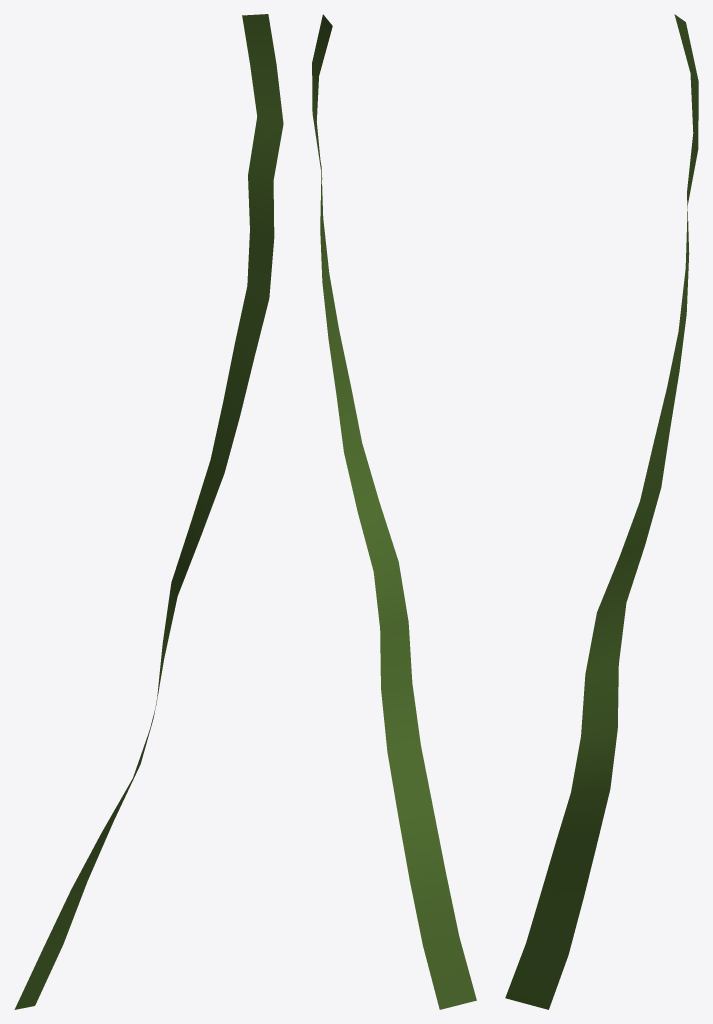
Rendered from plant_swamp_kelp_long_solo_Z.fbx.
3 views of the same model, side by side, from view 1: azimuth 30°, elevation 25°; view 2: azimuth 150°, elevation 25°; view 3: azimuth 330°, elevation 25° (orthographic). The views are drawn at different scales.
Parts seen in each view (by area): view 1: plant_swamp_kelp_long_solo_Z; view 2: plant_swamp_kelp_long_solo_Z; view 3: plant_swamp_kelp_long_solo_Z.
Part boxes in pixels (x1=…): plant_swamp_kelp_long_solo_Z: x1=14, y1=14, x2=283, y2=1009; plant_swamp_kelp_long_solo_Z: x1=312, y1=14, x2=476, y2=1009; plant_swamp_kelp_long_solo_Z: x1=505, y1=14, x2=698, y2=1009.
Bounding box in the file's own units: 41.34 × 175 × 18.55.
